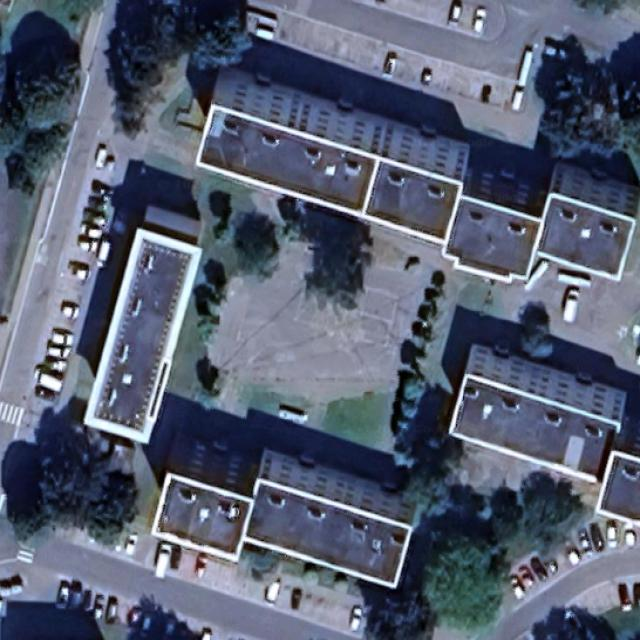immeuble: (185, 64, 640, 314), (443, 339, 633, 485), (232, 448, 424, 592), (80, 226, 204, 444), (148, 473, 256, 563), (593, 449, 640, 527)
